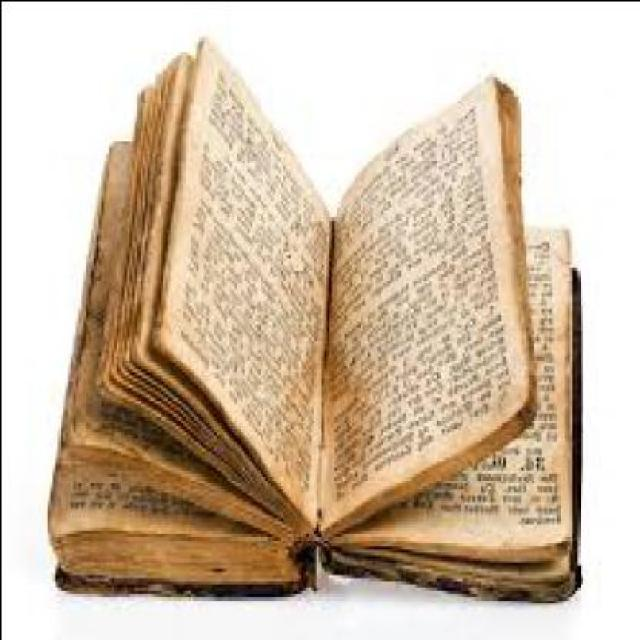PAPER: (45, 32, 584, 598), (317, 73, 535, 535), (49, 139, 276, 533), (151, 32, 335, 516), (330, 218, 576, 551)
